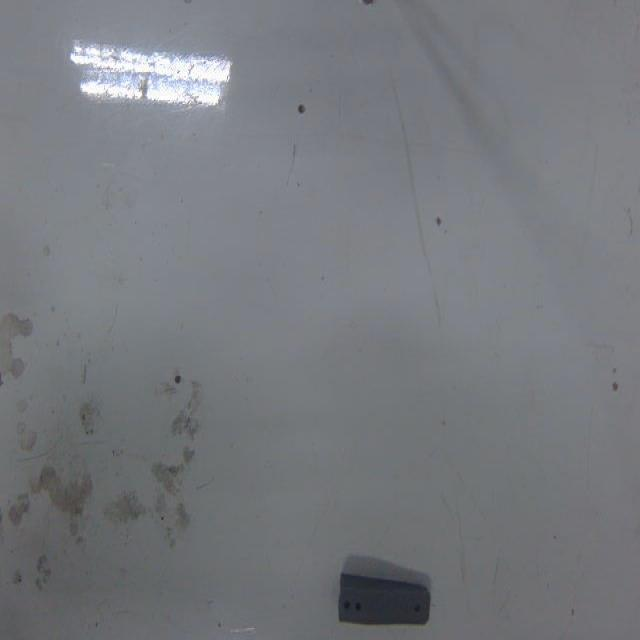grey: (337, 569, 432, 631)
head: (411, 601, 422, 617)
